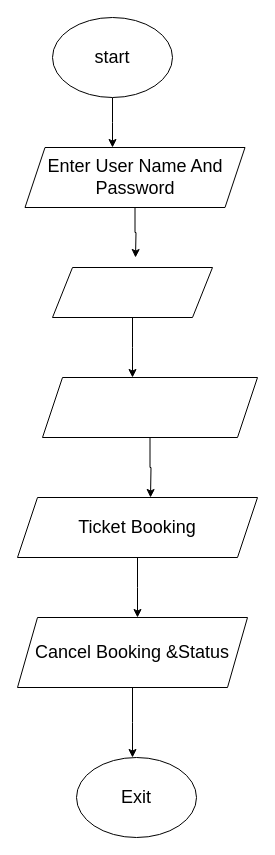
Image size: 275x855. Some labels were removed from this diagram. The centre of each missing label's shape, as x and y in pixels:
Choose Bus List: (x=150, y=407)
Enter Choice: (x=132, y=292)
